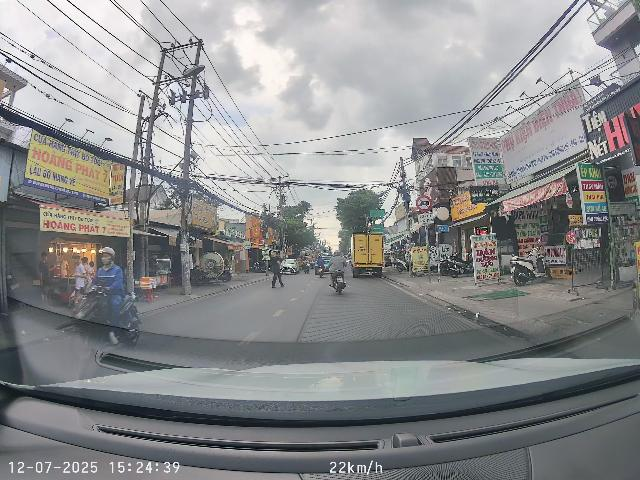106-cam-oto-tai: (416, 195, 432, 212)
